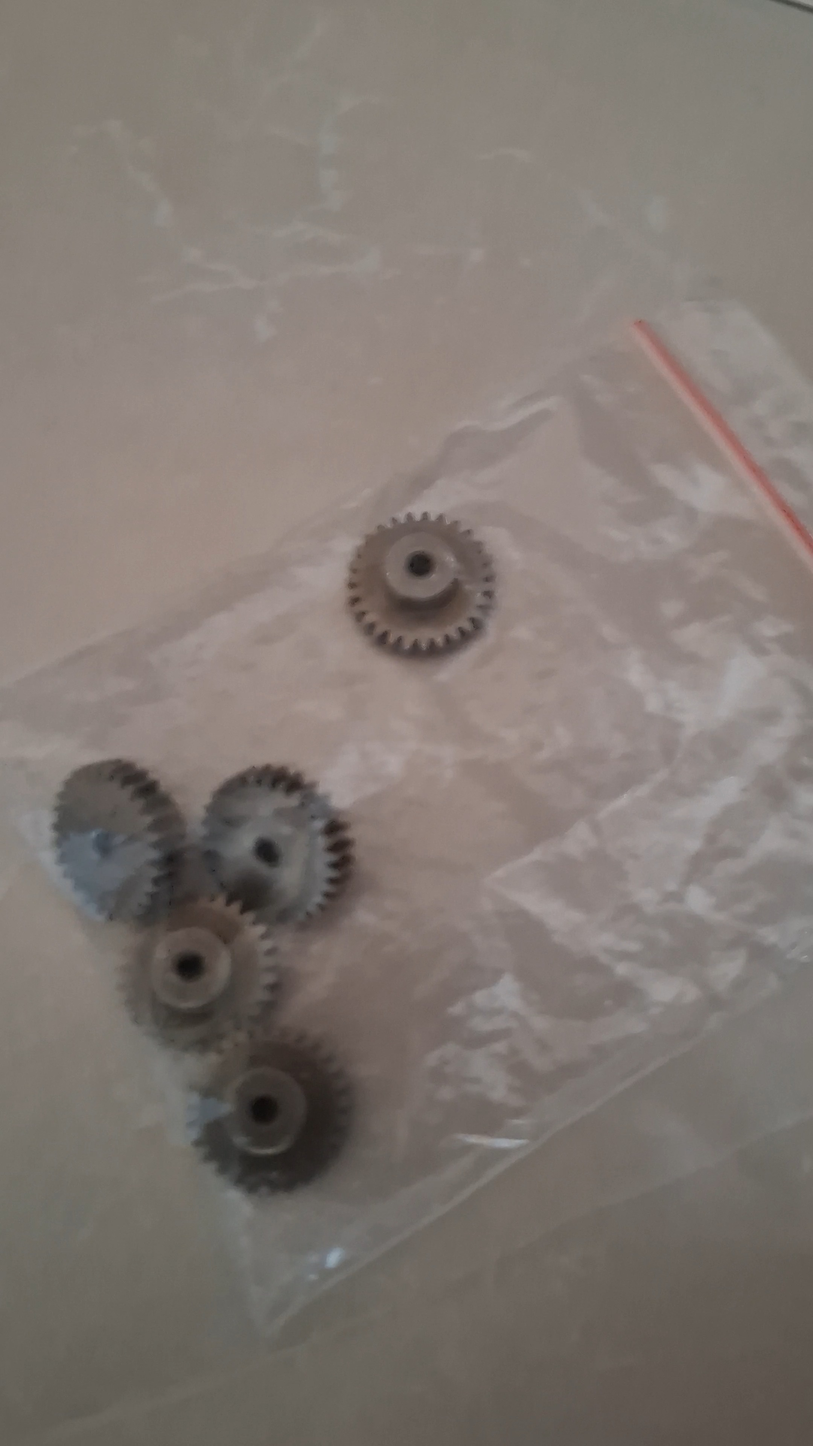spur gear: (195, 1030, 352, 1191), (123, 899, 279, 1050), (202, 765, 352, 921), (52, 759, 185, 921), (348, 513, 494, 654)
